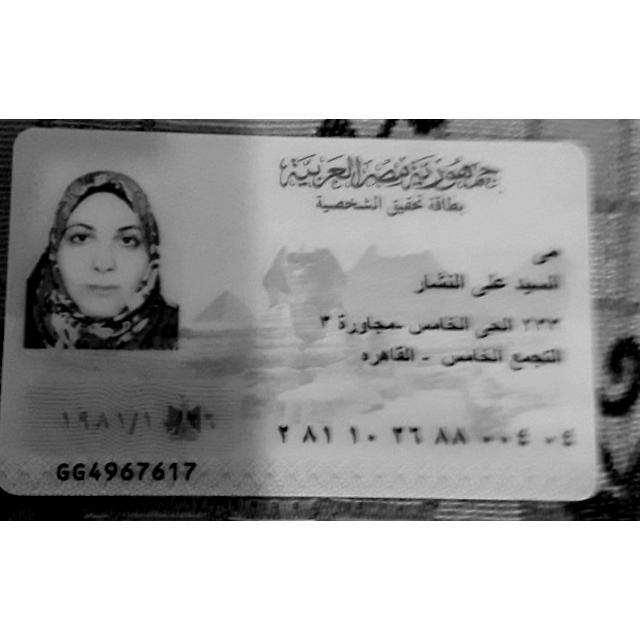front: (0, 128, 600, 501)
